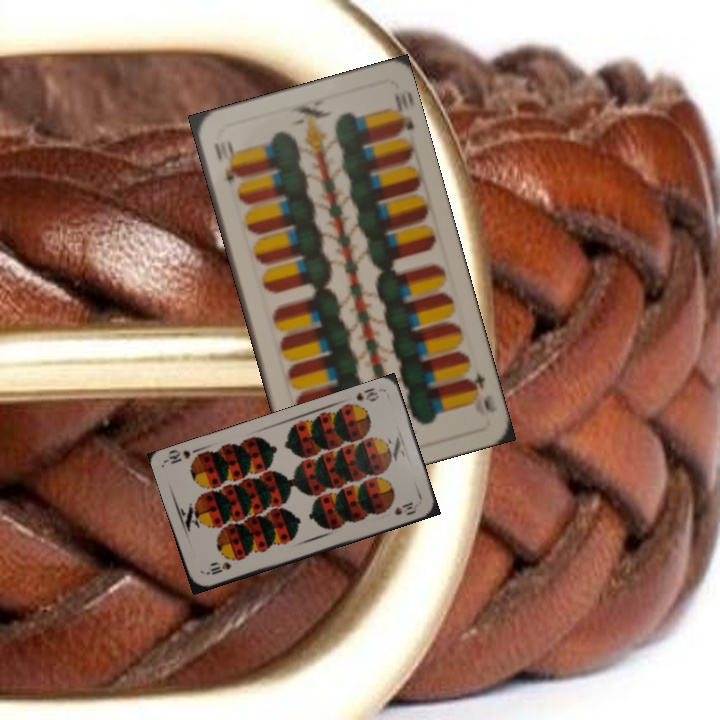E10: (462, 367, 499, 416), (210, 138, 238, 184)
S10: (202, 558, 234, 577), (352, 384, 382, 404)
